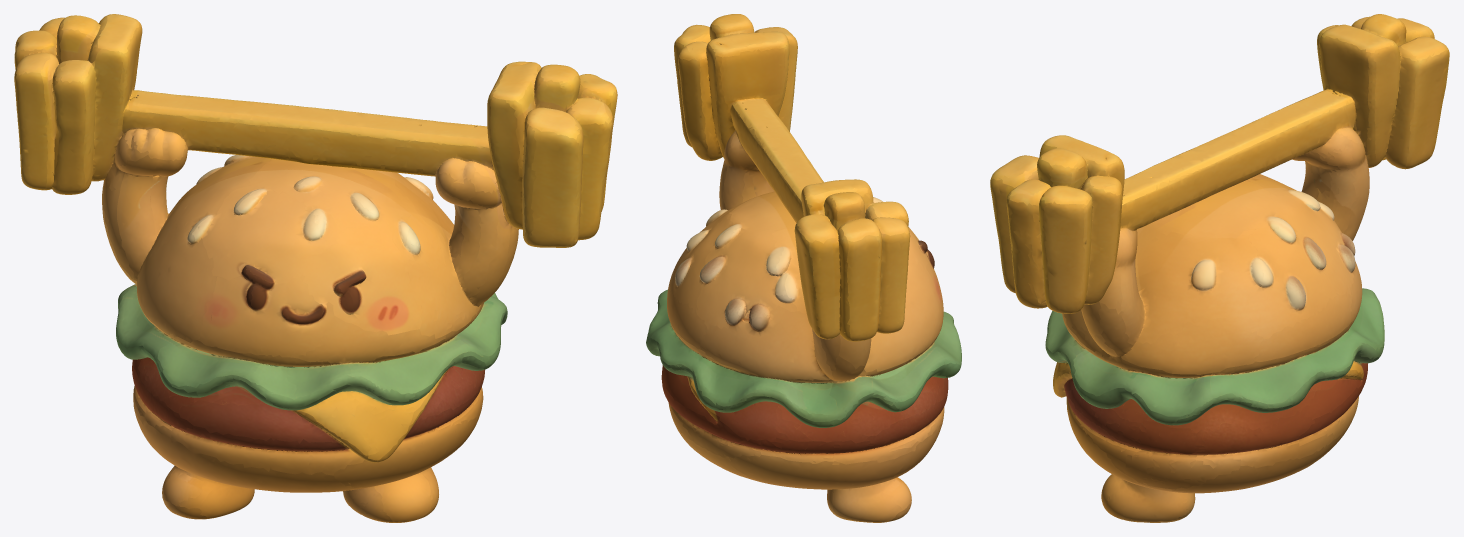
3 renders of one model, left to right at view 1: azimuth 30°, elevation 25°; view 2: azimuth 150°, elevation 25°; view 3: azimuth 270°, elevation 25°, orthographic. The views are drawn at different scales.
Parts seen in each view (by area): view 1: geometry_0; view 2: geometry_0; view 3: geometry_0.
Part boxes in pixels (x1,y1,x2,y2): geometry_0: (14,14,617,522); geometry_0: (646,14,961,522); geometry_0: (990,14,1449,522).
Bounding box in the file's own units: 0.18 × 0.1761 × 0.1801.
1 material, 1 textured.
